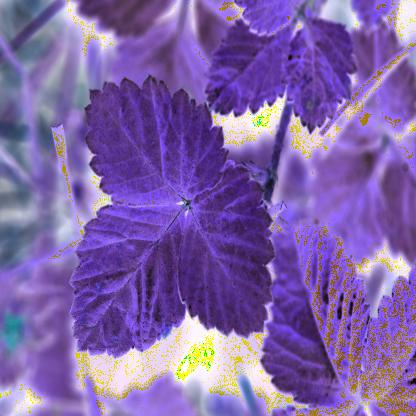Strawberry leaf: (67, 195, 208, 356), (83, 77, 227, 208), (170, 171, 272, 348)
